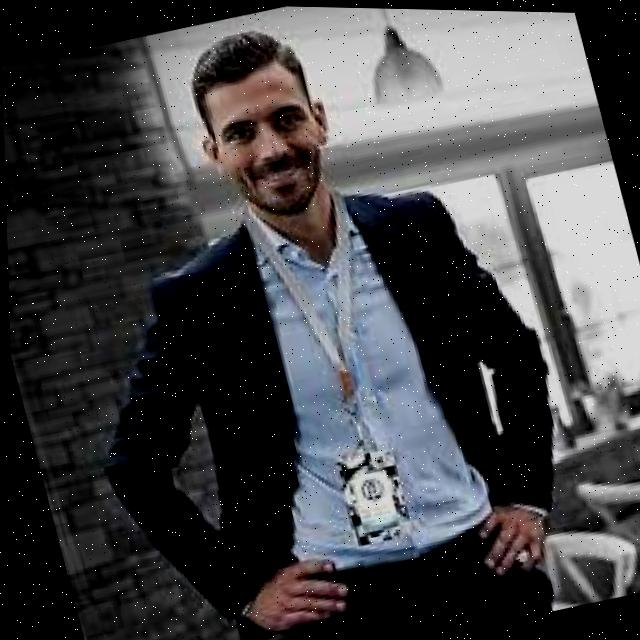id_card: (223, 177, 437, 570)
